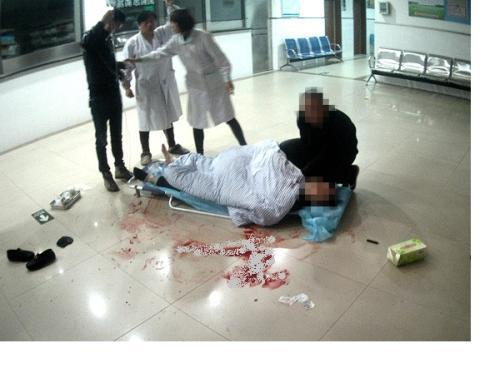Fall-Detected: (132, 132, 351, 233)
